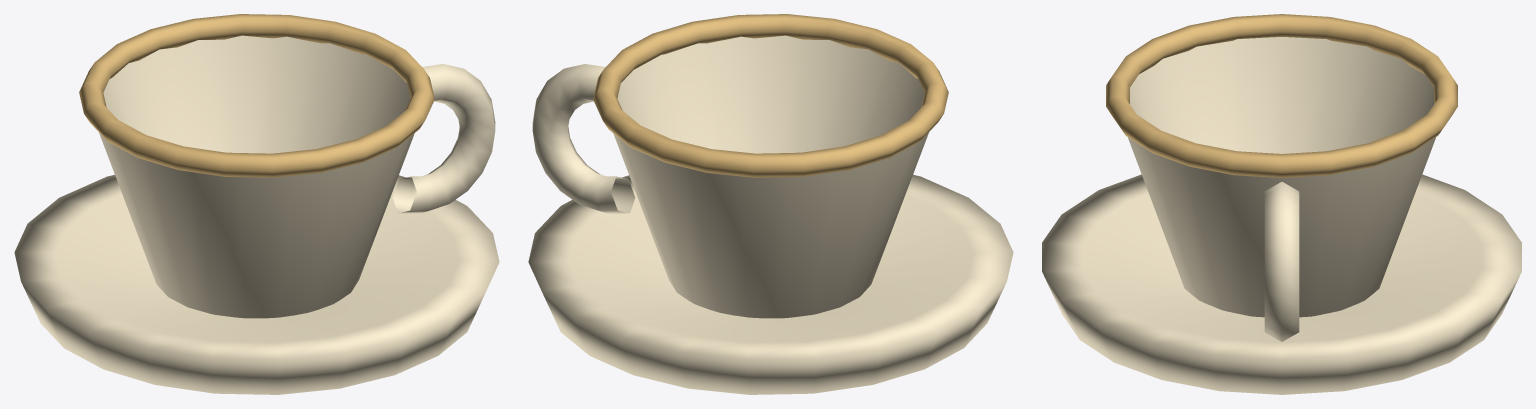
The model's file is Tea_Leaf_Cup.fbx.
3 views of the same model, side by side, from view 1: azimuth 30°, elevation 25°; view 2: azimuth 150°, elevation 25°; view 3: azimuth 270°, elevation 25° (orthographic).
Visible parts, largest first — view 1: Tea_Leaf_Cup_Mesh; view 2: Tea_Leaf_Cup_Mesh; view 3: Tea_Leaf_Cup_Mesh.
Part boxes in pixels (<box>): Tea_Leaf_Cup_Mesh: <box>14,14,499,394</box>; Tea_Leaf_Cup_Mesh: <box>528,14,1013,394</box>; Tea_Leaf_Cup_Mesh: <box>1042,14,1521,394</box>.
Bounding box in the file's own units: 0.128 × 0.0586 × 0.1188.
